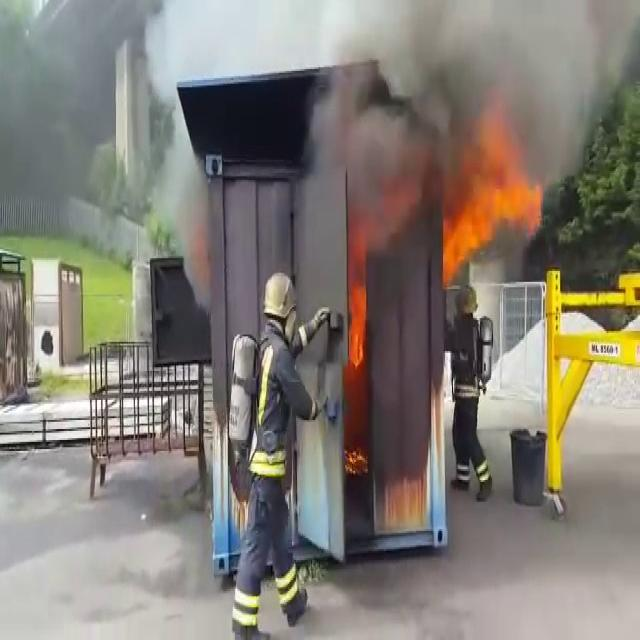Fire: (434, 188, 520, 256), (348, 284, 369, 466)
Smoke: (316, 0, 586, 167)
